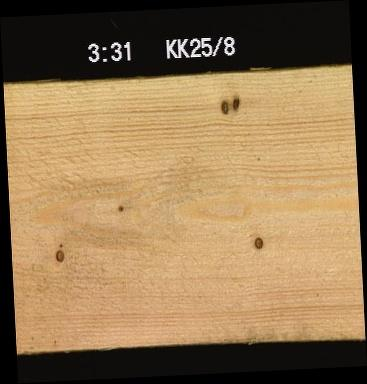dry_knot: (53, 248, 64, 262), (252, 235, 263, 249), (219, 98, 228, 114), (231, 95, 239, 109)
small_knot: (116, 202, 124, 212)
